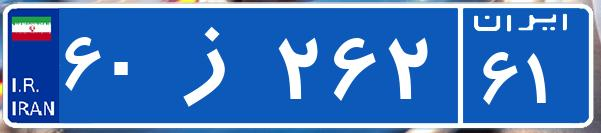0: (110, 28, 158, 105)
1: (525, 38, 570, 115)
2: (385, 28, 445, 110), (273, 28, 330, 110)
6: (330, 28, 385, 110), (57, 26, 110, 107), (475, 38, 525, 113)
ز: (158, 15, 273, 115)
